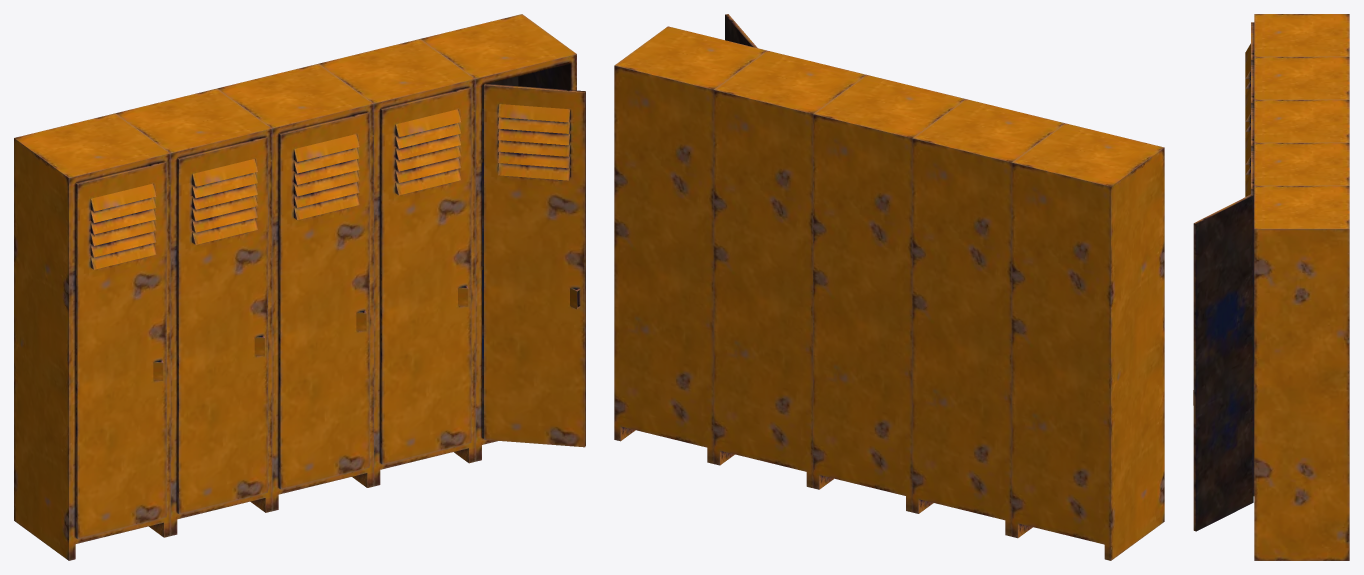
The model's file is locker-row-orange.glb.
3 views of the same model, side by side, from view 1: azimuth 30°, elevation 25°; view 2: azimuth 150°, elevation 25°; view 3: azimuth 270°, elevation 25° (orthographic). The views are drawn at different scales.
Visible parts, largest first — view 1: Door001_Steel_locker _0, Door005_Steel_locker _0, Door002_Steel_locker _0, Door003_Steel_locker _0, Door004_Steel_locker _0, Steel_locker004, Steel_locker003, Steel_locker001, Steel_locker002, Steel_locker; view 2: Steel_locker004, Steel_locker001, Steel_locker003, Steel_locker, Steel_locker002; view 3: Steel_locker, Door001_Steel_locker _0, Steel_locker001, Steel_locker002, Steel_locker003, Steel_locker004, Door002_Steel_locker _0, Door005_Steel_locker _0, Door003_Steel_locker _0, Door004_Steel_locker _0.
Part boxes in pixels (box(x1,y1,x2,y2)): Door001_Steel_locker _0: box(484, 83, 585, 447); Door005_Steel_locker _0: box(75, 161, 166, 538); Door002_Steel_locker _0: box(380, 87, 471, 464); Door003_Steel_locker _0: box(278, 111, 369, 489); Door004_Steel_locker _0: box(177, 136, 267, 513); Steel_locker004: box(14, 113, 170, 560); Steel_locker003: box(116, 88, 272, 535); Steel_locker001: box(319, 39, 475, 486); Steel_locker002: box(217, 63, 373, 511); Steel_locker: box(421, 14, 576, 461); Steel_locker004: box(1011, 123, 1164, 560); Steel_locker001: box(713, 50, 866, 487); Steel_locker003: box(912, 99, 1064, 536); Steel_locker: box(614, 26, 766, 463); Steel_locker002: box(813, 75, 965, 512); Steel_locker: box(1254, 186, 1349, 560); Door001_Steel_locker _0: box(1193, 194, 1253, 531); Steel_locker001: box(1254, 143, 1349, 185); Steel_locker002: box(1254, 100, 1349, 142); Steel_locker003: box(1254, 57, 1349, 99); Steel_locker004: box(1254, 14, 1349, 56); Door002_Steel_locker _0: box(1245, 151, 1254, 495); Door005_Steel_locker _0: box(1245, 22, 1254, 94); Door003_Steel_locker _0: box(1245, 108, 1254, 180); Door004_Steel_locker _0: box(1245, 65, 1254, 137).
Size of the model in its own units: 2.57 by 1.85 by 0.7891.
Materials: 1 (1 with a texture image).
